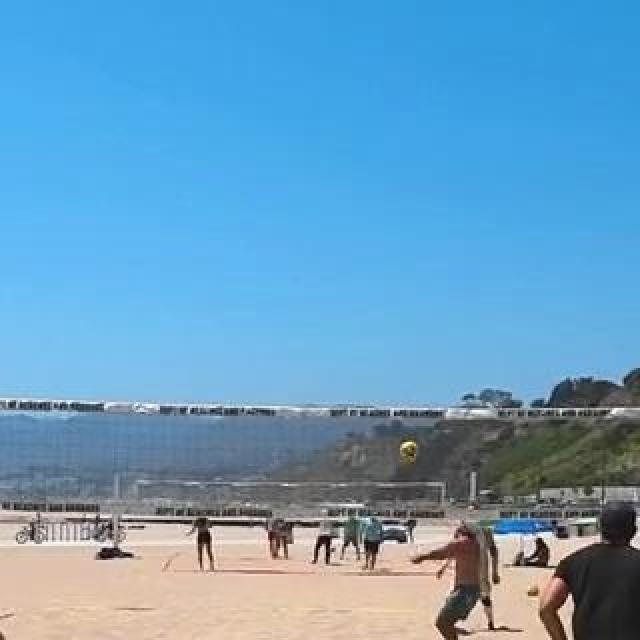volleyball: (396, 441, 422, 467), (526, 582, 540, 596)
